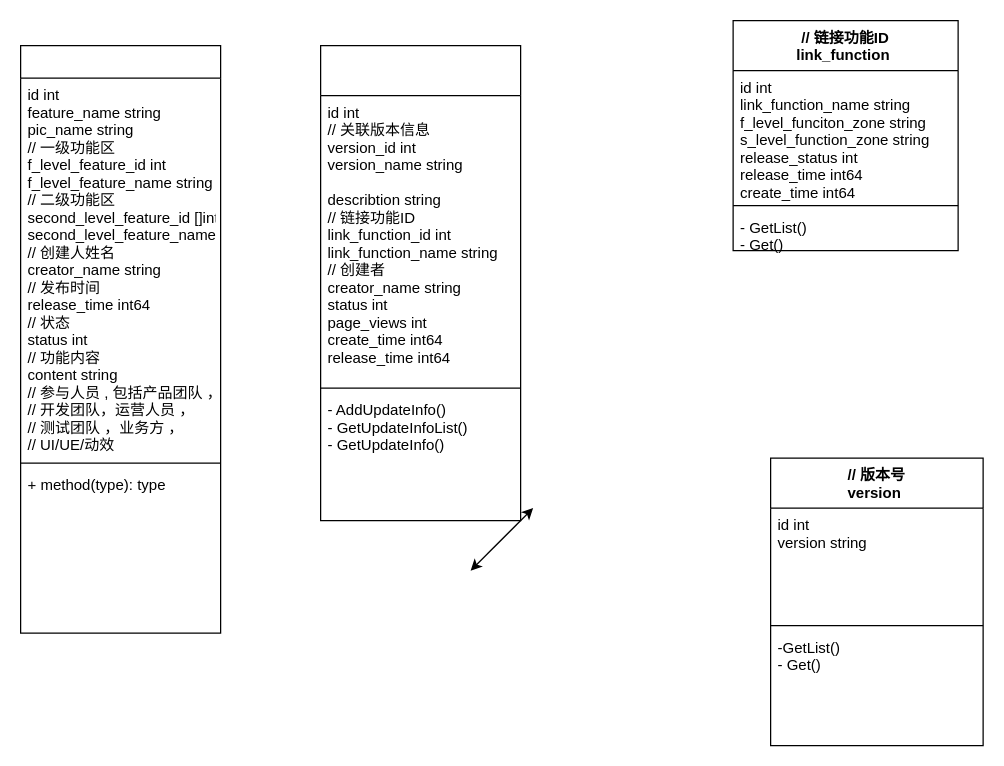
This 1004x766 diagram has some shape labels left out. Here are the shapes that lost their labels. From the top down, the box of each, then its label:
(319, 44, 521, 521): // 更新信息 update_info
(19, 44, 221, 633): Classname
